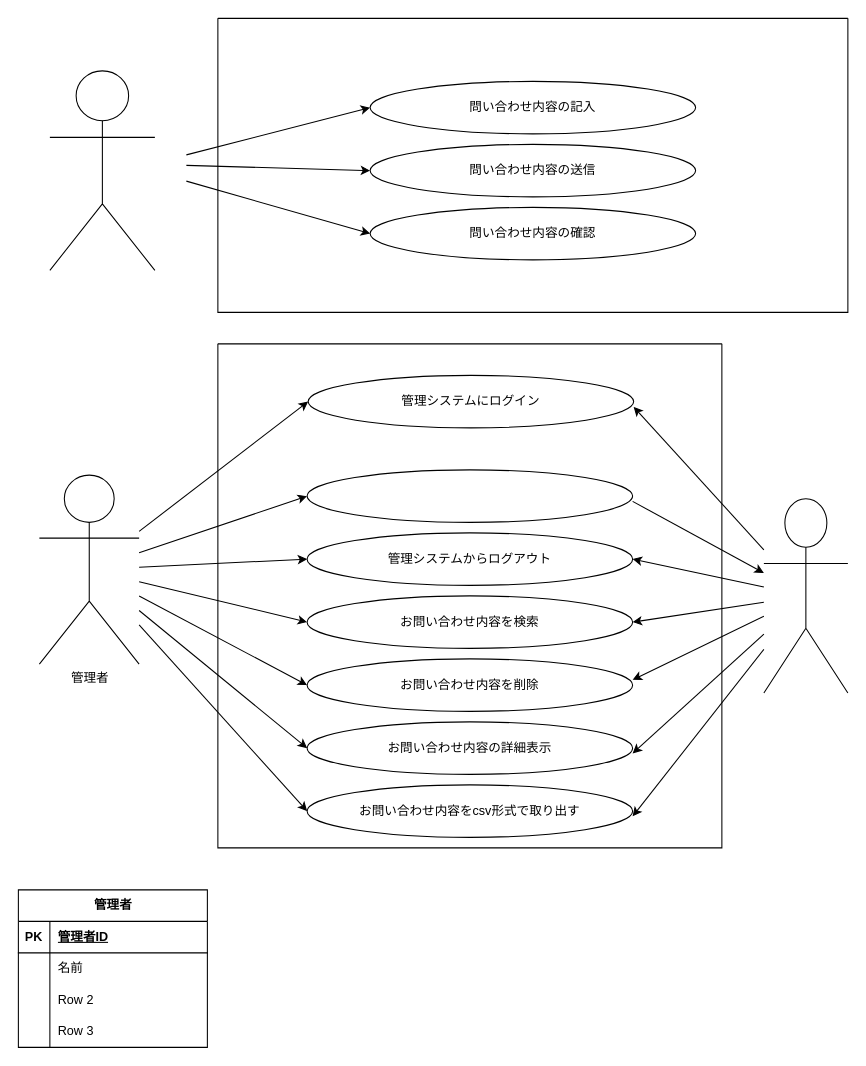
The diagram is 866 pixels wide and 1066 high, and some of its shapes have lost their labels. Here are the shapes that lost their labels. From the top down, the box of each, then its label:
(49, 70, 155, 270): 利用者
(217, 17, 848, 312): 問い合わせ送信システム
(306, 469, 633, 522): 新規ユーザーの作成・登録
(217, 343, 722, 848): 問い合わせ管理システム
(763, 498, 848, 693): 新規管理者
